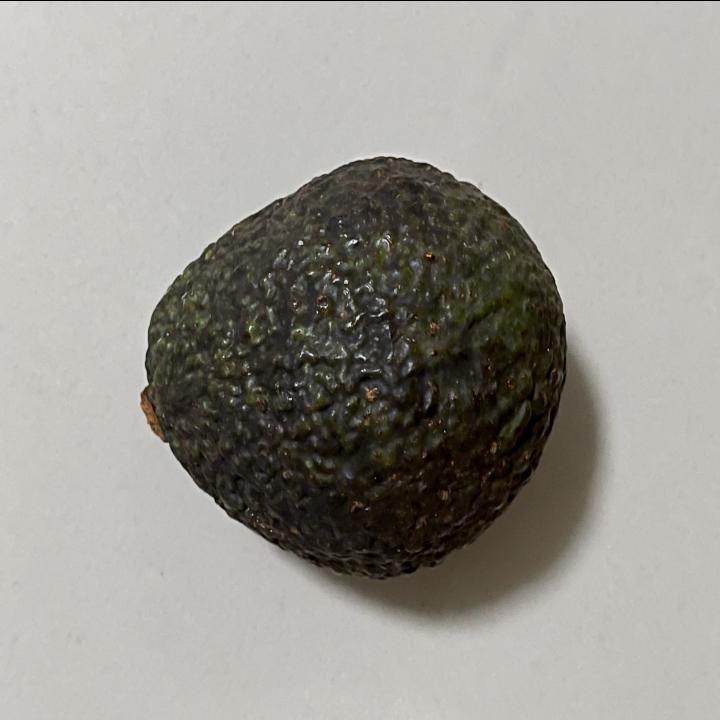Level1: (122, 136, 578, 592)
